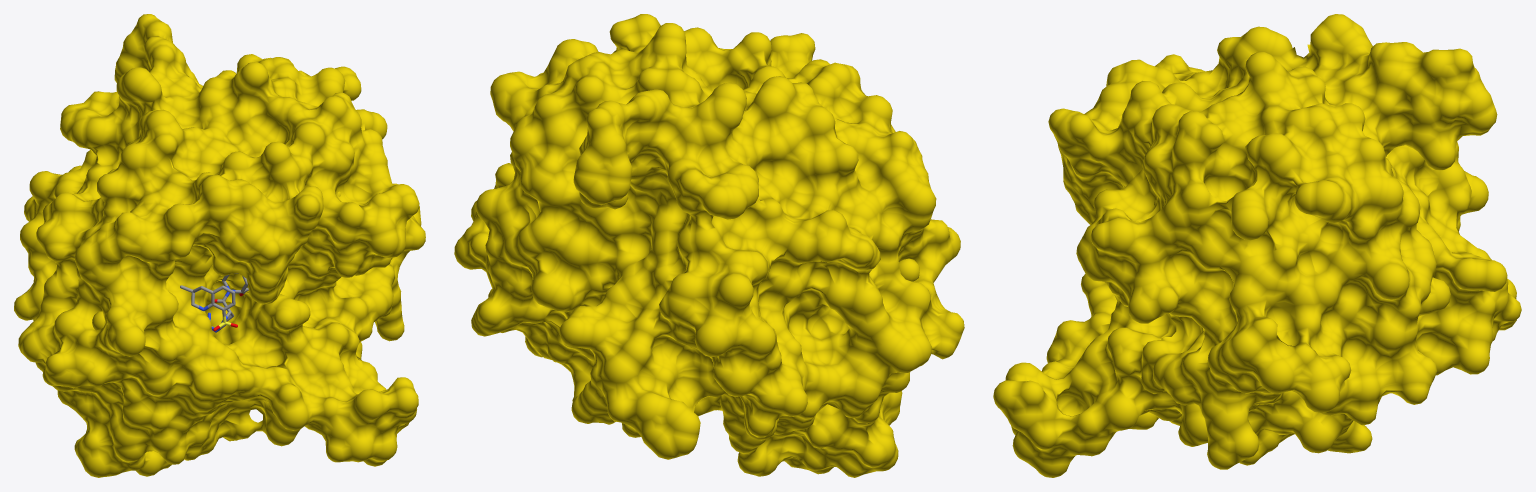
3 views of the same model, side by side, from view 1: azimuth 30°, elevation 25°; view 2: azimuth 150°, elevation 25°; view 3: azimuth 270°, elevation 25° (orthographic). The views are drawn at different scales.
Visible parts, largest first — view 1: ArgatrobanOnly.wrl.cleaner.materialmerger.gles; view 2: ArgatrobanOnly.wrl.cleaner.materialmerger.gles; view 3: ArgatrobanOnly.wrl.cleaner.materialmerger.gles.
Part boxes in pixels (x1=…): ArgatrobanOnly.wrl.cleaner.materialmerger.gles: x1=14, y1=14, x2=425, y2=477; ArgatrobanOnly.wrl.cleaner.materialmerger.gles: x1=454, y1=14, x2=964, y2=477; ArgatrobanOnly.wrl.cleaner.materialmerger.gles: x1=993, y1=14, x2=1521, y2=477.
Size of the model in its own units: 53.66 by 48.06 by 52.36.
